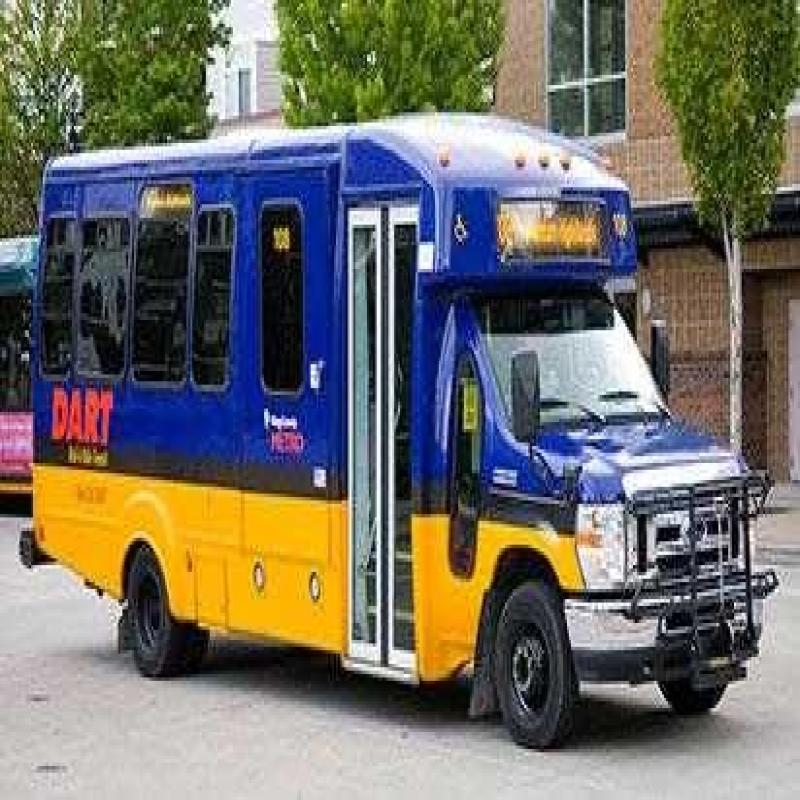bus: (27, 104, 766, 723)
